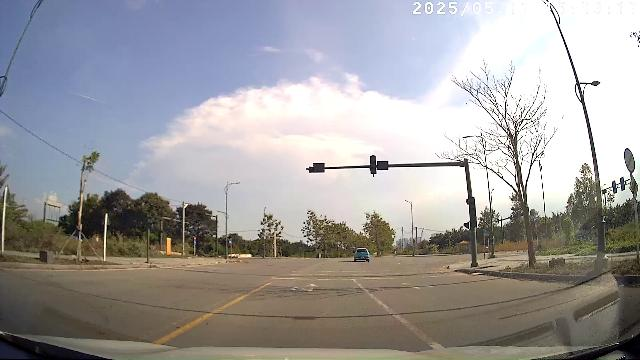135-het-tat-ca-cac-lenh-cam: (624, 148, 636, 172)
